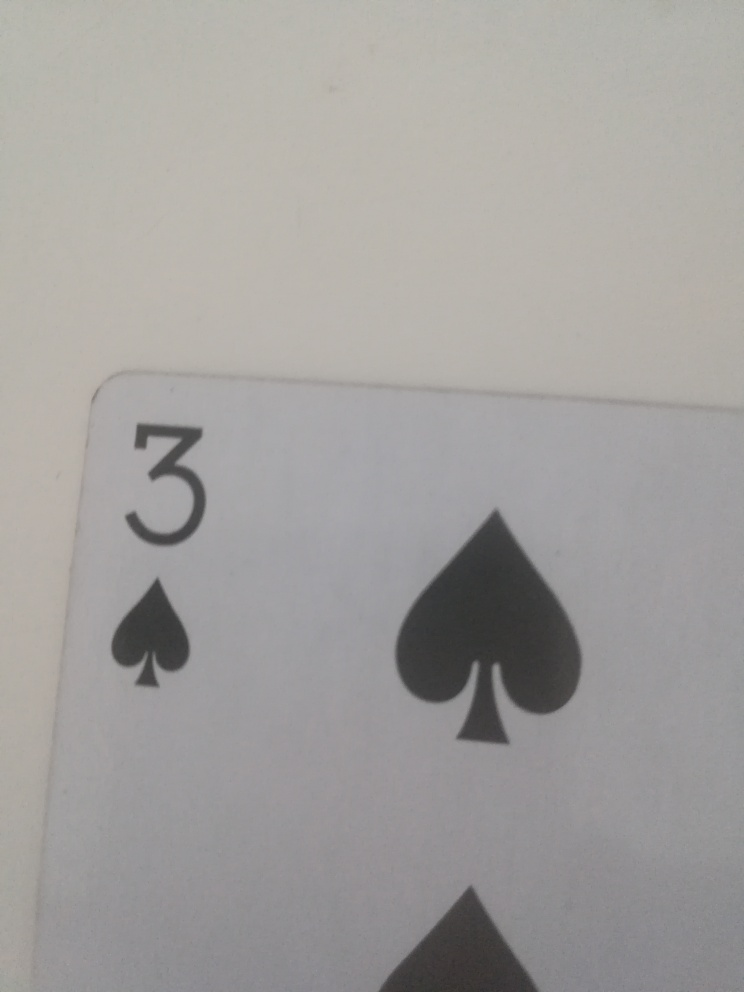3S: (92, 413, 218, 720)
